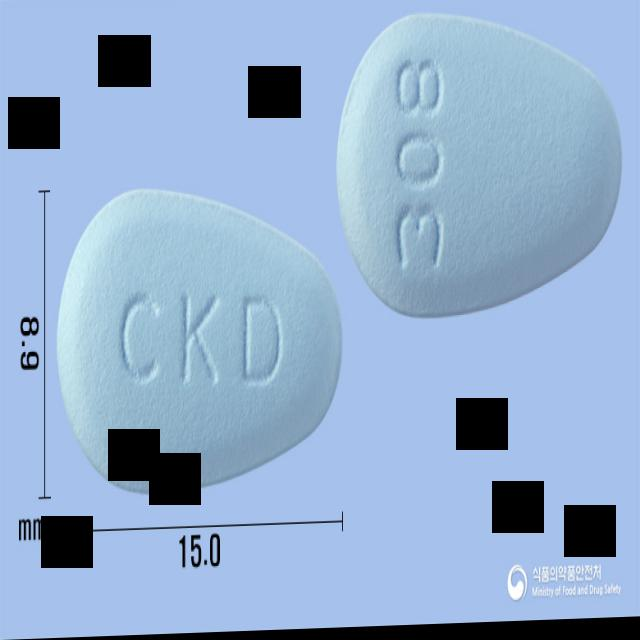Tenofobell Tab: (55, 178, 343, 500), (338, 3, 622, 326)
